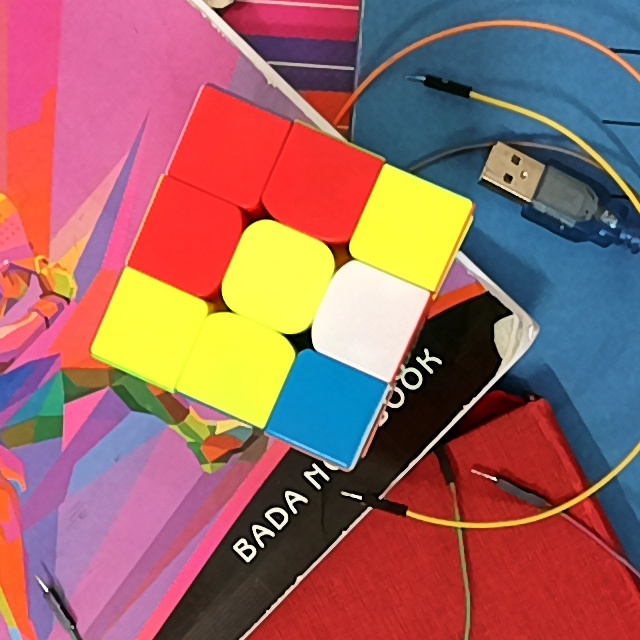tile: (284, 150, 355, 222), (200, 330, 271, 401), (243, 242, 312, 315), (375, 191, 442, 263), (334, 282, 400, 355), (155, 204, 222, 274), (294, 375, 364, 439), (196, 118, 261, 183), (118, 296, 181, 362)
